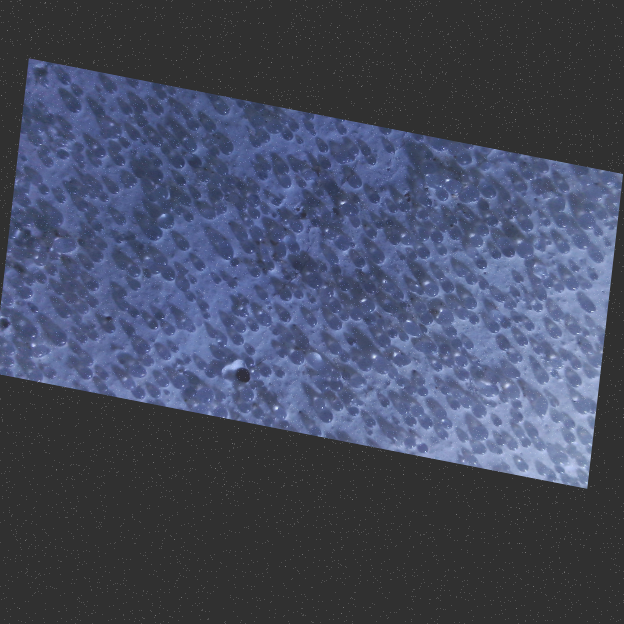GrassBeadSeg: (51, 238, 77, 253), (459, 188, 481, 203), (305, 274, 325, 289), (578, 216, 596, 231), (516, 243, 534, 258), (444, 180, 462, 195), (197, 389, 215, 403), (157, 215, 175, 229), (51, 332, 68, 346), (340, 204, 358, 217), (430, 139, 448, 152), (437, 312, 455, 325), (48, 213, 64, 227), (455, 153, 472, 166), (146, 228, 163, 241), (21, 326, 38, 339), (265, 122, 283, 134), (289, 352, 305, 365), (369, 251, 385, 264), (257, 313, 273, 326), (130, 366, 147, 378), (421, 342, 438, 354), (348, 176, 363, 189), (424, 284, 439, 297), (250, 229, 265, 242), (278, 290, 294, 302), (17, 288, 33, 300), (481, 187, 497, 199), (135, 343, 151, 355), (172, 377, 188, 389), (178, 195, 194, 207), (183, 140, 199, 152), (554, 216, 570, 228), (349, 377, 366, 388), (67, 101, 82, 113), (568, 376, 583, 388), (376, 336, 391, 348), (127, 266, 142, 278), (150, 171, 165, 183), (219, 143, 234, 155), (215, 103, 230, 115), (575, 237, 590, 249), (418, 314, 433, 326), (349, 309, 364, 321), (318, 412, 334, 423), (213, 408, 229, 419), (534, 163, 550, 174), (586, 189, 602, 200), (301, 170, 317, 181), (328, 319, 342, 331), (337, 281, 351, 293), (463, 298, 477, 310), (565, 279, 579, 291), (550, 310, 564, 322), (473, 406, 487, 418), (449, 229, 463, 241), (326, 253, 340, 265), (475, 428, 489, 440), (419, 417, 433, 429), (519, 221, 534, 232), (242, 243, 257, 254), (230, 335, 245, 346), (79, 369, 94, 380), (122, 379, 137, 390), (290, 222, 305, 233), (276, 164, 291, 175), (327, 302, 342, 313), (250, 117, 265, 128), (131, 389, 147, 399), (122, 178, 138, 188), (44, 368, 57, 380), (415, 230, 428, 242), (353, 257, 367, 268), (548, 328, 562, 339), (441, 282, 455, 293), (58, 308, 72, 319), (90, 252, 104, 263), (329, 344, 343, 355), (509, 353, 523, 364), (444, 327, 458, 338), (273, 409, 287, 420), (240, 390, 254, 401), (417, 248, 431, 259), (476, 226, 490, 237), (287, 243, 301, 254), (411, 406, 425, 417), (189, 158, 203, 169), (248, 196, 262, 207), (134, 103, 148, 114), (154, 188, 168, 199), (550, 358, 564, 369), (361, 301, 375, 312), (375, 362, 389, 373), (358, 360, 372, 371), (171, 158, 186, 168), (75, 304, 90, 314), (506, 369, 521, 379), (194, 406, 210, 415), (387, 368, 399, 380), (177, 240, 190, 251), (431, 232, 444, 243), (148, 388, 161, 399), (537, 374, 550, 385), (568, 325, 581, 336), (105, 84, 118, 95), (461, 398, 474, 409), (110, 127, 123, 138), (279, 312, 293, 322), (557, 244, 571, 254), (486, 323, 500, 333), (485, 217, 499, 227), (102, 324, 116, 334), (465, 275, 479, 285), (86, 281, 100, 291), (252, 409, 266, 419), (149, 137, 163, 147), (494, 293, 508, 303), (235, 231, 249, 241), (187, 121, 201, 131), (502, 248, 516, 258), (203, 210, 217, 220), (215, 166, 229, 176), (291, 163, 305, 173), (552, 455, 566, 465), (29, 372, 43, 382), (197, 173, 212, 182), (257, 163, 272, 172), (436, 191, 448, 202), (129, 131, 141, 142), (314, 399, 326, 410), (347, 147, 359, 158), (433, 178, 445, 189), (2, 295, 14, 306), (194, 262, 207, 272), (249, 268, 262, 278), (128, 281, 141, 291), (87, 298, 100, 308), (305, 317, 318, 327), (163, 326, 176, 336), (121, 106, 134, 116), (522, 171, 535, 181), (152, 106, 165, 116), (204, 122, 217, 132), (235, 202, 248, 212), (59, 76, 72, 86), (91, 222, 104, 232), (35, 274, 48, 284), (76, 202, 89, 212), (30, 137, 43, 147), (330, 381, 343, 391), (456, 268, 469, 278), (589, 358, 602, 368), (404, 438, 417, 448), (87, 208, 100, 218), (398, 203, 411, 213), (581, 344, 594, 354), (435, 409, 448, 419), (456, 310, 469, 320), (466, 249, 479, 259), (583, 204, 596, 214), (220, 249, 233, 259), (163, 271, 176, 281), (364, 284, 377, 294), (471, 237, 484, 247), (80, 357, 94, 366), (57, 151, 71, 160), (141, 358, 155, 367), (309, 428, 323, 437), (18, 198, 32, 207), (19, 218, 33, 227), (257, 133, 271, 142), (517, 336, 528, 347), (577, 404, 588, 415), (366, 229, 378, 239), (369, 194, 381, 204), (517, 462, 529, 472), (551, 414, 563, 424), (156, 256, 168, 266), (124, 326, 136, 336), (363, 316, 375, 326), (396, 378, 408, 388), (191, 190, 203, 200), (215, 205, 227, 215), (442, 420, 454, 430), (329, 370, 341, 380), (533, 264, 545, 274), (389, 235, 401, 245), (261, 367, 273, 377), (113, 157, 126, 166), (347, 407, 360, 416), (94, 149, 107, 158), (114, 290, 127, 299), (159, 351, 172, 360), (412, 133, 425, 142), (563, 420, 576, 429), (18, 187, 31, 196), (383, 284, 396, 293), (499, 193, 512, 202), (580, 437, 593, 446), (414, 304, 427, 313), (77, 189, 90, 198), (586, 371, 600, 379), (439, 345, 450, 355), (209, 148, 220, 158), (22, 349, 33, 359), (398, 405, 409, 415), (78, 289, 89, 299), (336, 154, 347, 164), (458, 371, 469, 381), (457, 357, 468, 367), (499, 341, 510, 351), (485, 387, 496, 397), (365, 419, 377, 428), (115, 217, 127, 226), (384, 145, 396, 154), (432, 363, 444, 372), (476, 260, 488, 269), (83, 262, 95, 271), (175, 177, 187, 186), (332, 403, 344, 412), (564, 435, 576, 444), (55, 195, 67, 204), (320, 160, 332, 169), (129, 309, 141, 318), (417, 445, 429, 454), (336, 126, 348, 135), (97, 242, 109, 251), (558, 184, 570, 193), (571, 361, 583, 370), (520, 208, 532, 217), (94, 108, 106, 117), (386, 431, 398, 440), (505, 209, 517, 218), (339, 354, 351, 363), (249, 210, 261, 219), (118, 302, 130, 311), (260, 207, 272, 216), (3, 358, 15, 367), (325, 231, 337, 240), (438, 224, 450, 233), (379, 127, 392, 135), (504, 302, 517, 310), (84, 231, 97, 239), (91, 184, 104, 192), (302, 112, 315, 120), (594, 254, 604, 264), (361, 147, 371, 157), (283, 131, 293, 141), (521, 438, 531, 448), (281, 178, 291, 188), (491, 250, 501, 260), (437, 247, 448, 256), (492, 418, 503, 427), (318, 144, 329, 153), (184, 214, 195, 223), (387, 330, 398, 339), (469, 316, 480, 325), (440, 387, 451, 396), (113, 235, 124, 244), (251, 139, 262, 148), (366, 157, 377, 166), (496, 438, 507, 447), (5, 346, 16, 355), (562, 353, 573, 362), (174, 207, 185, 216), (435, 272, 446, 281), (2, 309, 13, 318), (421, 198, 432, 207), (431, 215, 442, 224), (479, 162, 490, 171), (602, 176, 613, 185), (163, 203, 174, 212), (409, 327, 420, 336), (395, 358, 406, 367), (310, 219, 322, 227), (417, 388, 429, 396), (88, 333, 100, 341), (91, 160, 103, 168), (258, 293, 270, 301), (24, 278, 36, 286), (99, 372, 111, 380), (250, 185, 262, 193), (446, 216, 458, 224), (461, 143, 474, 150), (148, 321, 158, 330), (554, 284, 564, 293), (155, 312, 165, 321), (543, 280, 553, 289), (479, 281, 489, 290), (452, 340, 462, 349), (531, 277, 541, 286), (525, 322, 535, 331), (491, 375, 501, 384), (477, 446, 487, 455), (508, 441, 518, 450), (529, 429, 539, 438), (250, 323, 260, 332), (217, 339, 227, 348), (180, 283, 190, 292), (394, 292, 404, 301), (599, 212, 608, 222), (42, 159, 53, 167), (99, 194, 110, 202), (109, 186, 120, 194), (257, 173, 268, 181), (158, 379, 169, 387), (346, 338, 357, 346), (196, 362, 207, 370), (512, 401, 523, 409), (47, 268, 58, 276), (374, 222, 385, 230), (271, 198, 282, 206), (73, 89, 84, 97), (77, 335, 88, 343), (515, 430, 526, 438), (538, 468, 549, 476), (151, 267, 162, 275), (289, 124, 300, 132), (420, 211, 429, 220), (389, 204, 398, 213), (158, 92, 167, 101), (538, 292, 547, 301), (534, 303, 543, 312), (293, 261, 302, 270), (240, 309, 249, 318), (237, 324, 246, 333), (295, 290, 304, 299), (402, 236, 411, 245), (275, 370, 285, 378), (29, 305, 39, 313), (513, 414, 523, 422), (465, 342, 475, 350), (228, 281, 238, 289), (399, 334, 409, 342), (502, 321, 512, 329), (246, 347, 256, 355), (416, 379, 426, 387), (209, 331, 219, 339), (265, 262, 275, 270), (245, 358, 255, 366), (251, 372, 261, 380), (255, 380, 265, 388), (186, 389, 196, 397), (407, 386, 417, 394), (300, 340, 310, 348), (284, 335, 294, 343), (264, 418, 274, 426), (240, 405, 250, 413), (216, 393, 226, 401), (513, 276, 524, 283), (153, 160, 164, 167), (297, 181, 308, 188), (229, 260, 240, 267), (170, 141, 181, 148), (381, 400, 390, 408), (551, 400, 560, 408), (130, 80, 139, 88), (408, 419, 417, 427), (460, 434, 469, 442), (440, 432, 449, 440), (451, 402, 460, 410), (214, 179, 223, 187), (227, 178, 236, 186), (225, 319, 234, 327), (319, 383, 328, 391), (344, 396, 353, 404), (586, 305, 595, 313), (324, 289, 333, 297), (589, 274, 599, 281), (500, 396, 510, 403), (280, 421, 290, 428), (385, 220, 395, 227), (123, 141, 131, 149), (114, 146, 122, 154), (185, 112, 193, 120), (35, 126, 43, 134), (58, 139, 66, 147), (41, 79, 49, 87), (65, 125, 73, 133), (281, 116, 289, 124), (239, 101, 247, 109), (69, 187, 77, 195), (202, 313, 211, 320), (409, 253, 418, 260), (99, 385, 108, 392), (90, 192, 99, 199), (223, 188, 232, 195), (215, 192, 224, 199), (188, 295, 197, 302), (571, 266, 579, 273), (213, 277, 221, 284), (184, 357, 192, 364), (42, 187, 49, 195), (169, 88, 176, 96), (514, 316, 522, 323), (535, 347, 543, 354), (533, 362, 541, 369), (538, 444, 546, 451), (171, 345, 179, 352), (27, 362, 35, 369), (57, 288, 65, 295), (14, 282, 22, 289), (36, 259, 44, 266), (53, 253, 61, 260), (70, 284, 78, 291), (35, 177, 42, 185), (188, 326, 196, 333), (190, 277, 198, 284), (201, 304, 209, 311), (218, 352, 226, 359), (280, 350, 288, 357), (341, 314, 349, 321), (595, 230, 603, 237), (447, 360, 455, 367), (73, 272, 81, 279), (34, 242, 42, 249), (556, 468, 565, 474), (309, 297, 316, 304), (551, 371, 558, 378), (176, 108, 183, 115), (466, 212, 473, 219), (541, 271, 548, 278), (605, 241, 612, 248), (529, 393, 536, 400), (334, 268, 341, 275), (420, 327, 428, 333), (242, 299, 250, 305), (367, 430, 374, 436), (399, 303, 406, 309), (297, 139, 304, 145), (399, 255, 406, 261), (416, 180, 423, 186), (426, 154, 433, 160), (409, 217, 416, 223), (510, 158, 517, 164), (556, 207, 563, 213), (611, 212, 618, 218), (610, 199, 616, 206), (544, 220, 551, 226), (309, 211, 316, 217), (322, 216, 329, 222), (336, 215, 343, 221), (283, 218, 290, 224), (321, 266, 328, 272), (310, 265, 317, 271), (317, 191, 324, 197), (353, 197, 360, 203), (353, 222, 360, 228), (582, 284, 589, 290), (513, 292, 520, 298), (583, 331, 590, 337), (142, 139, 148, 145), (78, 158, 84, 164), (275, 236, 281, 242), (247, 221, 253, 227), (70, 136, 76, 141), (46, 149, 51, 155), (251, 384, 256, 390), (286, 276, 292, 281), (540, 411, 545, 417), (102, 99, 107, 104), (98, 89, 103, 94), (311, 131, 316, 136), (521, 192, 526, 197), (395, 420, 400, 425), (263, 387, 268, 392), (165, 390, 170, 395), (47, 349, 52, 354), (92, 324, 97, 329), (140, 245, 145, 250), (492, 402, 497, 407), (468, 386, 473, 391), (498, 449, 502, 455), (44, 110, 49, 114), (258, 107, 262, 112), (485, 401, 489, 406), (593, 333, 597, 337), (419, 291, 423, 295), (268, 306, 272, 310), (265, 271, 269, 275), (276, 259, 280, 263), (591, 326, 595, 329), (523, 299, 527, 302), (516, 300, 520, 303), (351, 244, 355, 247), (541, 249, 545, 252), (570, 233, 574, 236), (529, 307, 532, 310)
